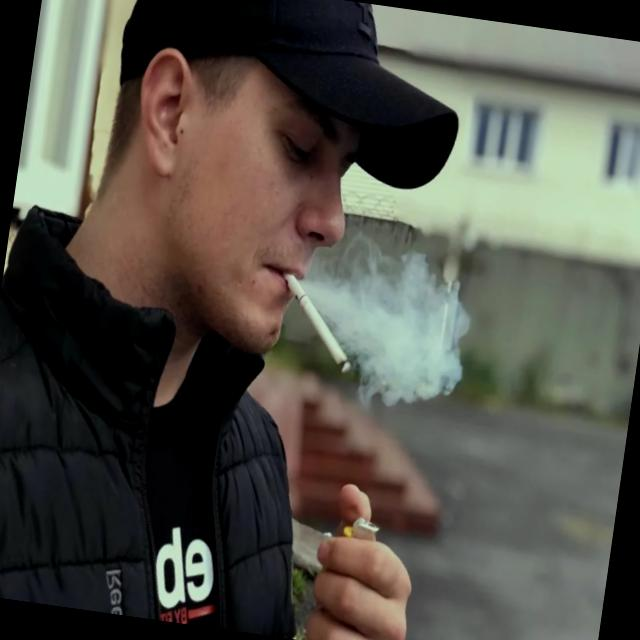smoke: (270, 270, 365, 377)
